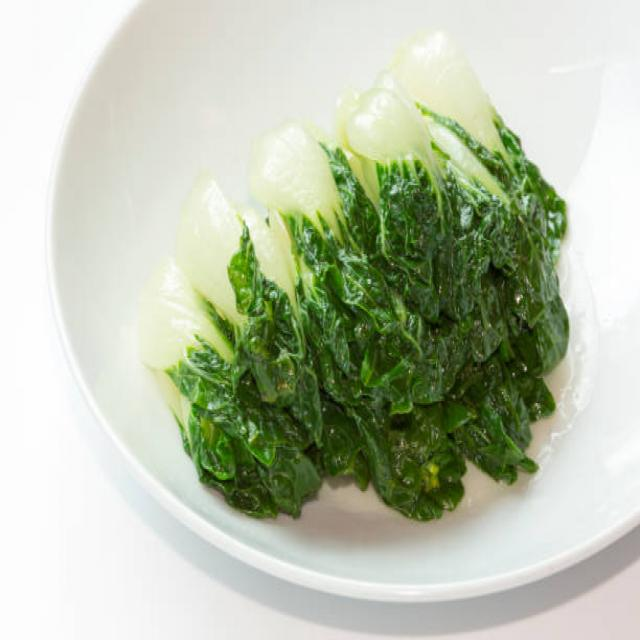bok choy: (179, 132, 568, 492)
